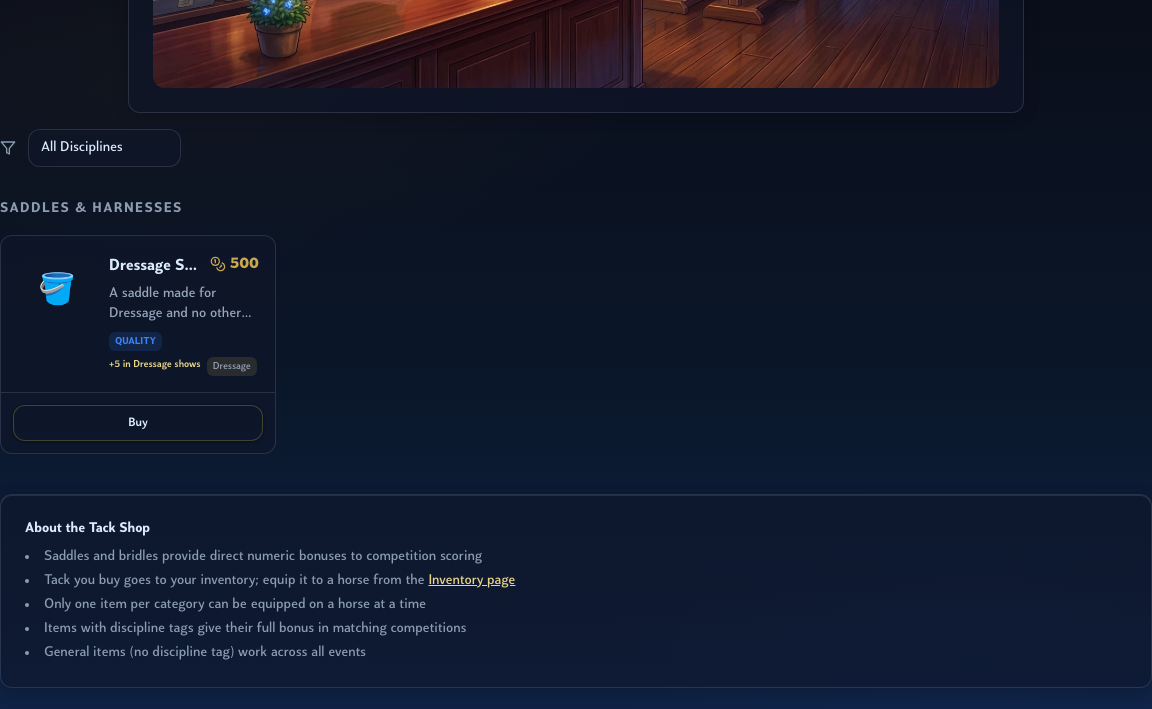
Test: TackShopPage (Equoria-dslww) › a failed purchase shows under that item's Buy button, never the server text
(page scrolled)
Click the button "Buy": (138, 423) [13,405,263,441]
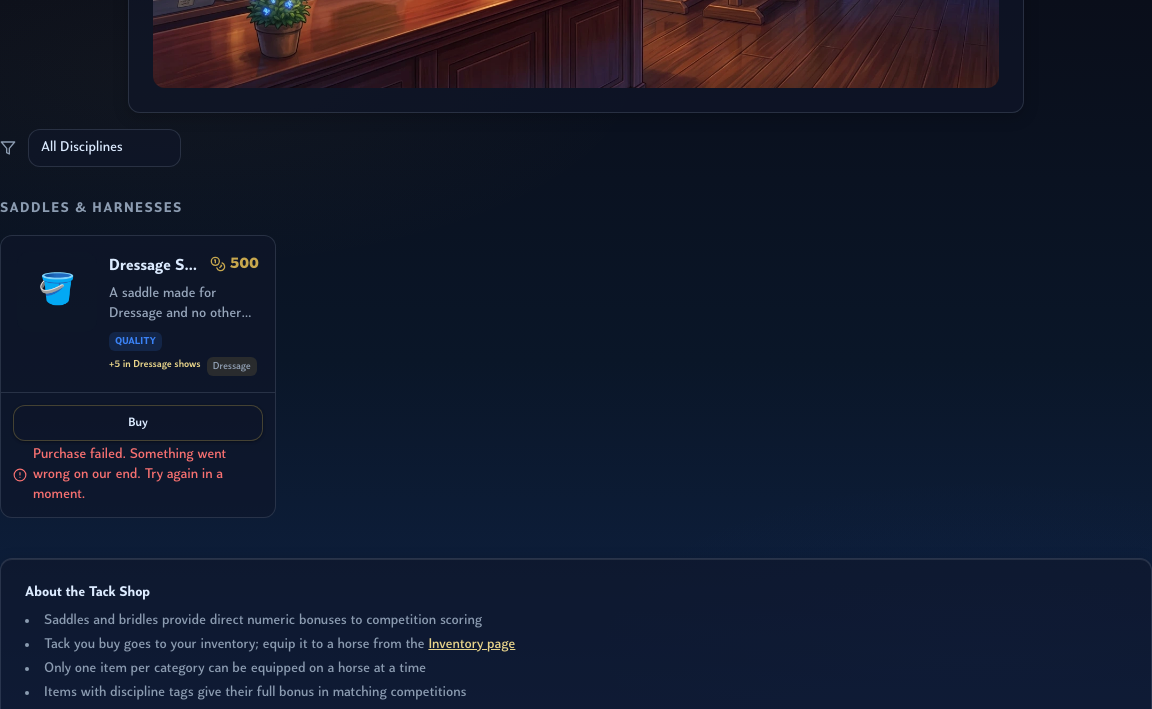
Check: the message shows "Purchase failed", box [33,447,226,502]
Check: the number of messages is 1, box [13,445,263,505]
